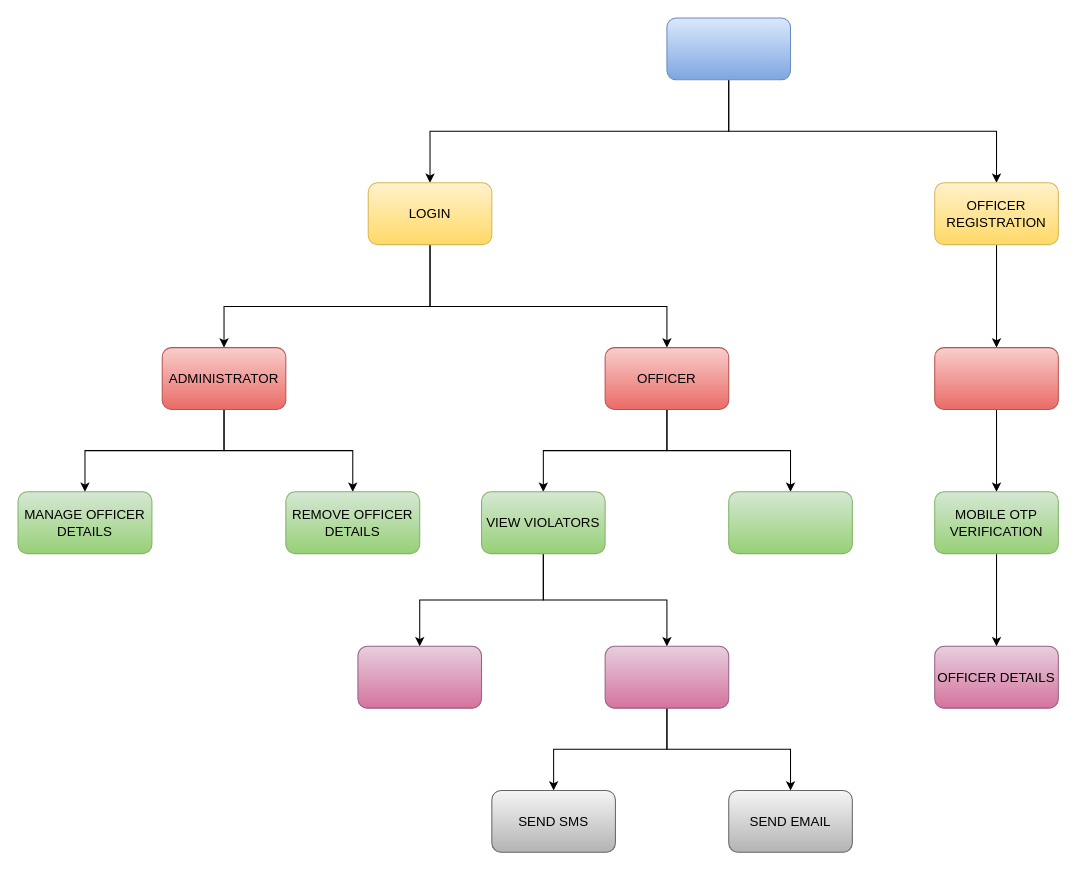
The diagram is 1076 pixels wide and 870 high, and some of its shapes have lost their labels. Here are the shapes that lost their labels. From the top down, the centre of each, then its label:
At [728,48]: "SLES".
At [996,378]: "GOOGLE VERIFICATION".
At [790,522]: "STATISTICAL ANALYSIS REPORTS".
At [419,676]: "REMOVE VIOLATOR".
At [666,676]: "SEND CHALLAN".
